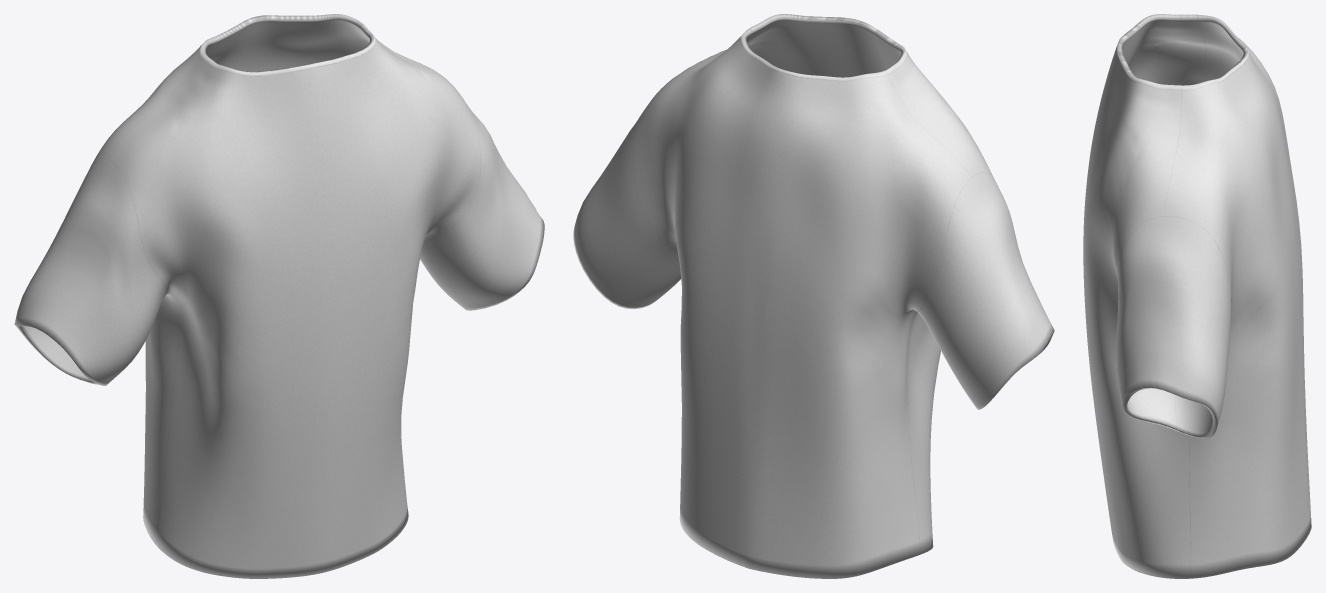
File: shirt_2.glb
3 renders of one model, left to right at view 1: azimuth 30°, elevation 25°; view 2: azimuth 150°, elevation 25°; view 3: azimuth 270°, elevation 25°, orthographic. The views are drawn at different scales.
Visible parts, largest first — view 1: Cylinder; view 2: Cylinder; view 3: Cylinder.
Part boxes in pixels (bbox=[...]): Cylinder: bbox=[14, 14, 544, 578]; Cylinder: bbox=[573, 14, 1054, 578]; Cylinder: bbox=[1083, 14, 1311, 578].
Bounding box in the file's own units: 1.88 × 1.83 × 0.7732.
Materials: 1 (1 with a texture image).
